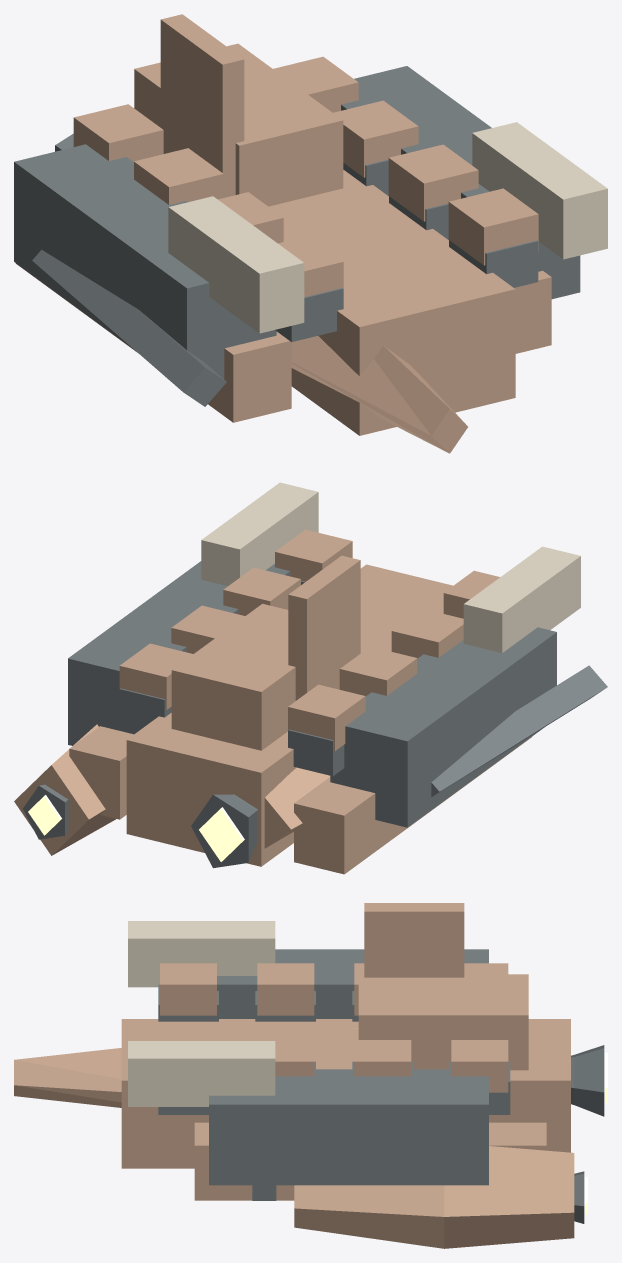
3 views of the same model, one above another, from view 1: azimuth 30°, elevation 25°; view 2: azimuth 150°, elevation 25°; view 3: azimuth 270°, elevation 25° (orthographic). The views are drawn at different scales.
Bounding box in the file's own units: 13.69 × 9.3 × 19.57.
